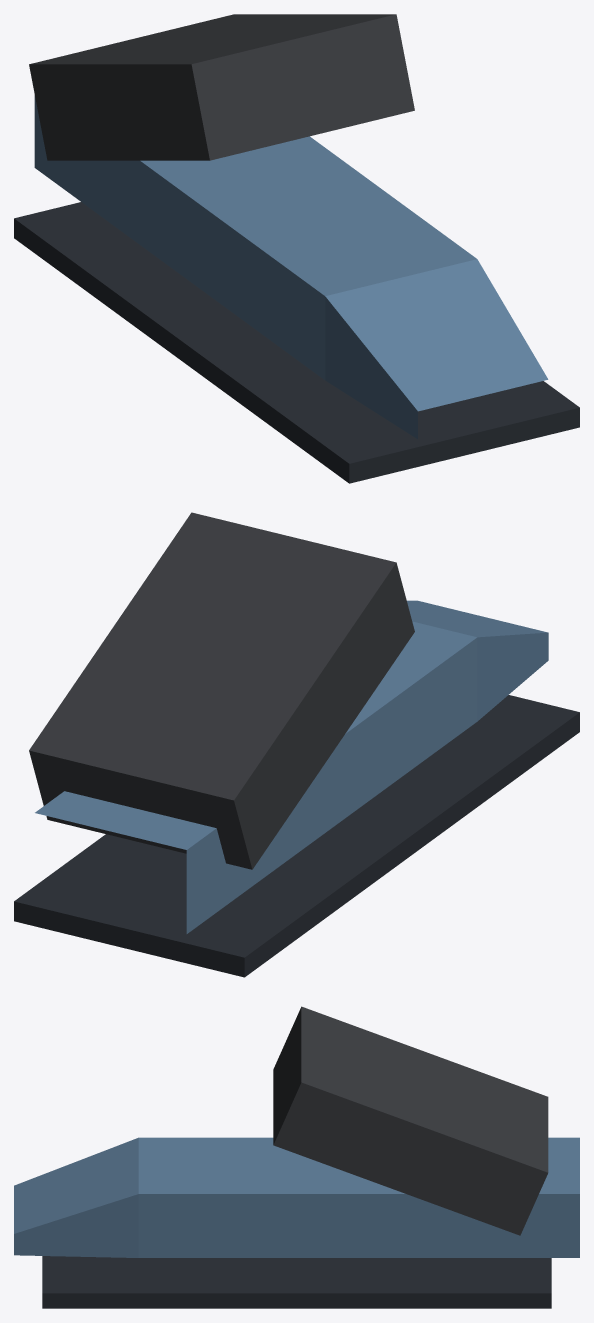
File: veh_ground_rocket_launcher_a10_lod2.glb
3 views of the same model, one above another, from view 1: azimuth 30°, elevation 25°; view 2: azimuth 150°, elevation 25°; view 3: azimuth 270°, elevation 25° (orthographic). The views are drawn at different scales.
Parts seen in each view (by area): view 1: body, launcher; view 2: launcher, body; view 3: body, launcher.
Boxes of the visible parts, bbox=[...] form: body: bbox=[14, 95, 579, 483]; launcher: bbox=[29, 14, 414, 160]; launcher: bbox=[29, 512, 414, 869]; body: bbox=[14, 600, 579, 977]; body: bbox=[14, 1137, 579, 1308]; launcher: bbox=[273, 1006, 548, 1235].
Size of the model in its own units: 2.43 by 2.97 by 6.8.
